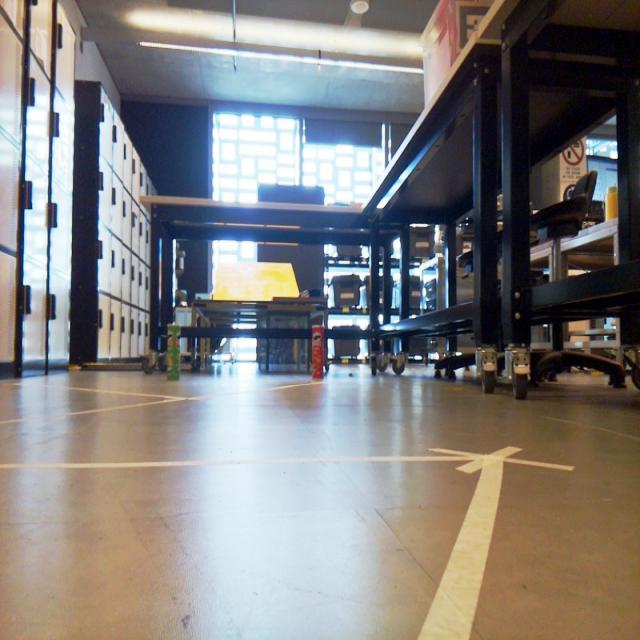greenpringles: (158, 316, 188, 387)
redpringles: (307, 322, 333, 393)
